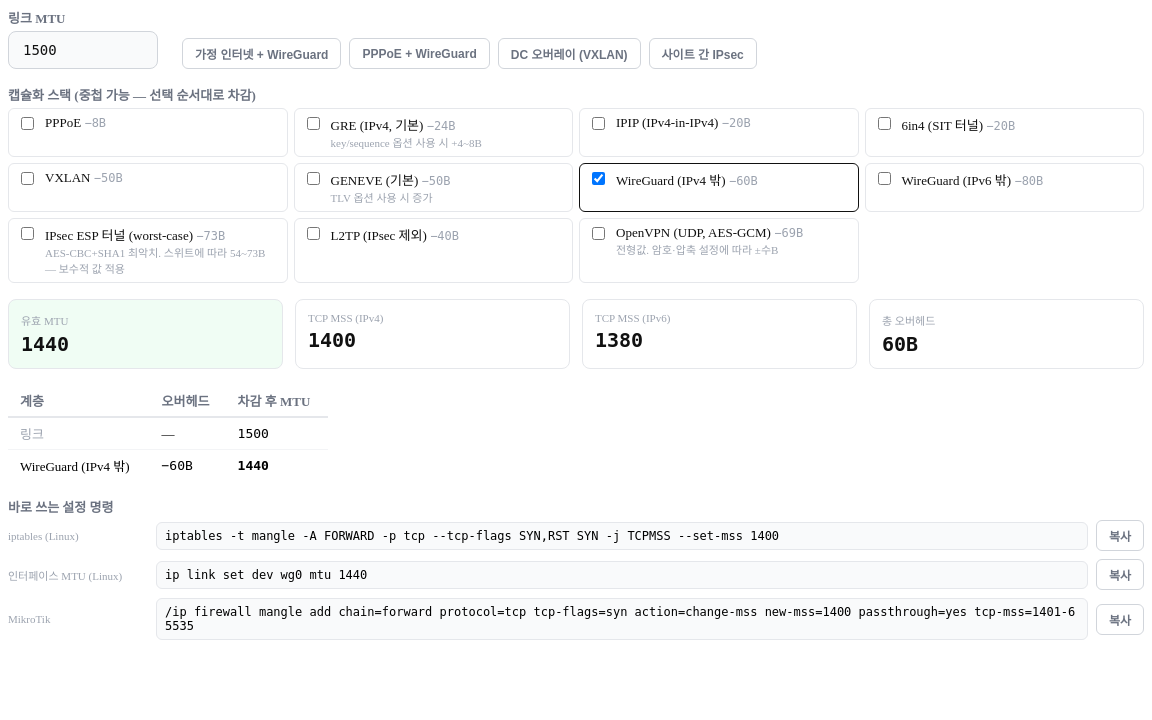
MtuMssCalculator › 링크 MTU 변경 반영 (9000 + WireGuard → 8940)
Replace the text in the number field labelled "링크 MTU" with "9000" at (83, 50), box left=8, top=31, right=158, bottom=69
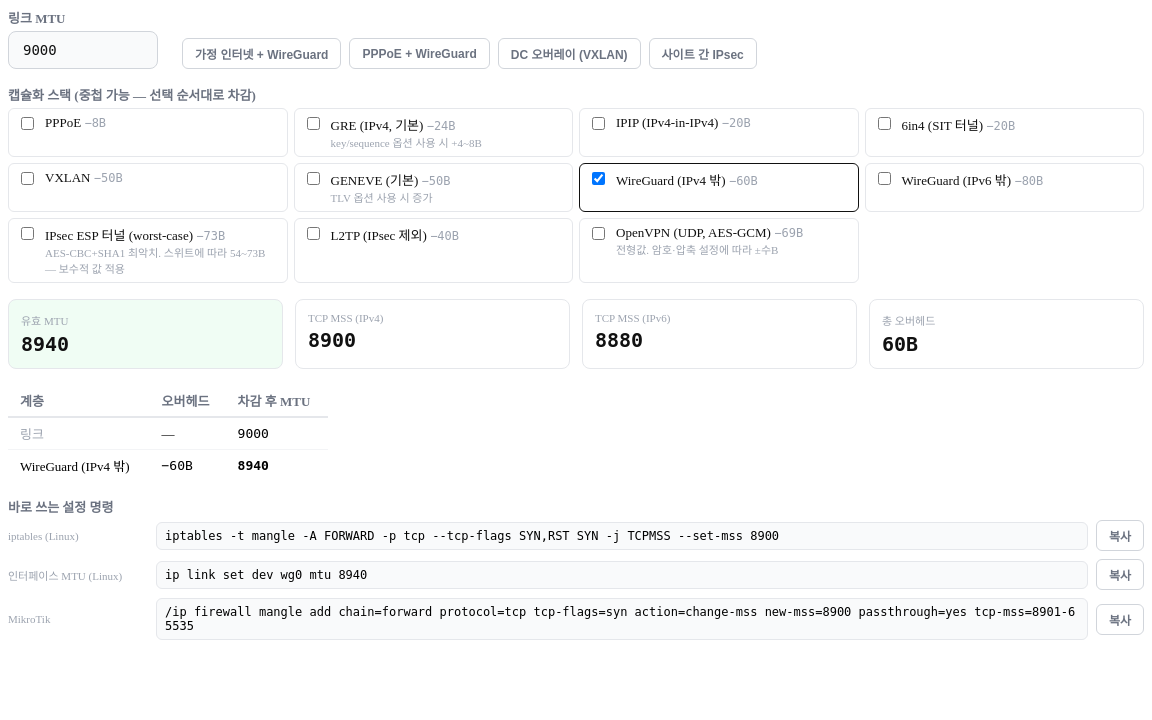
Check: the text "8940" is shown, box left=21, top=332, right=69, bottom=356
